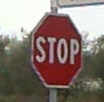stop: (29, 10, 82, 88)
